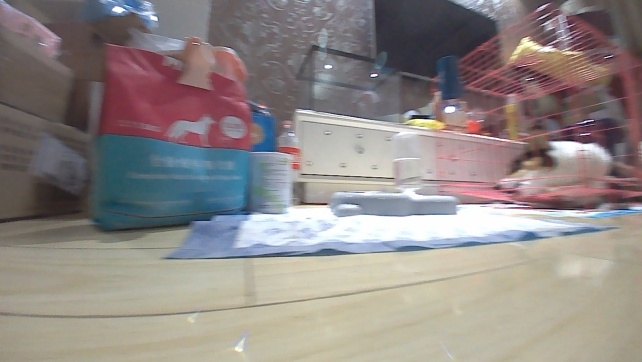TV_stand: (285, 105, 535, 208)
blanket: (159, 206, 621, 263)
dog: (495, 137, 617, 203)
